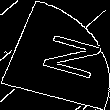N_W: (16, 27, 94, 83)
